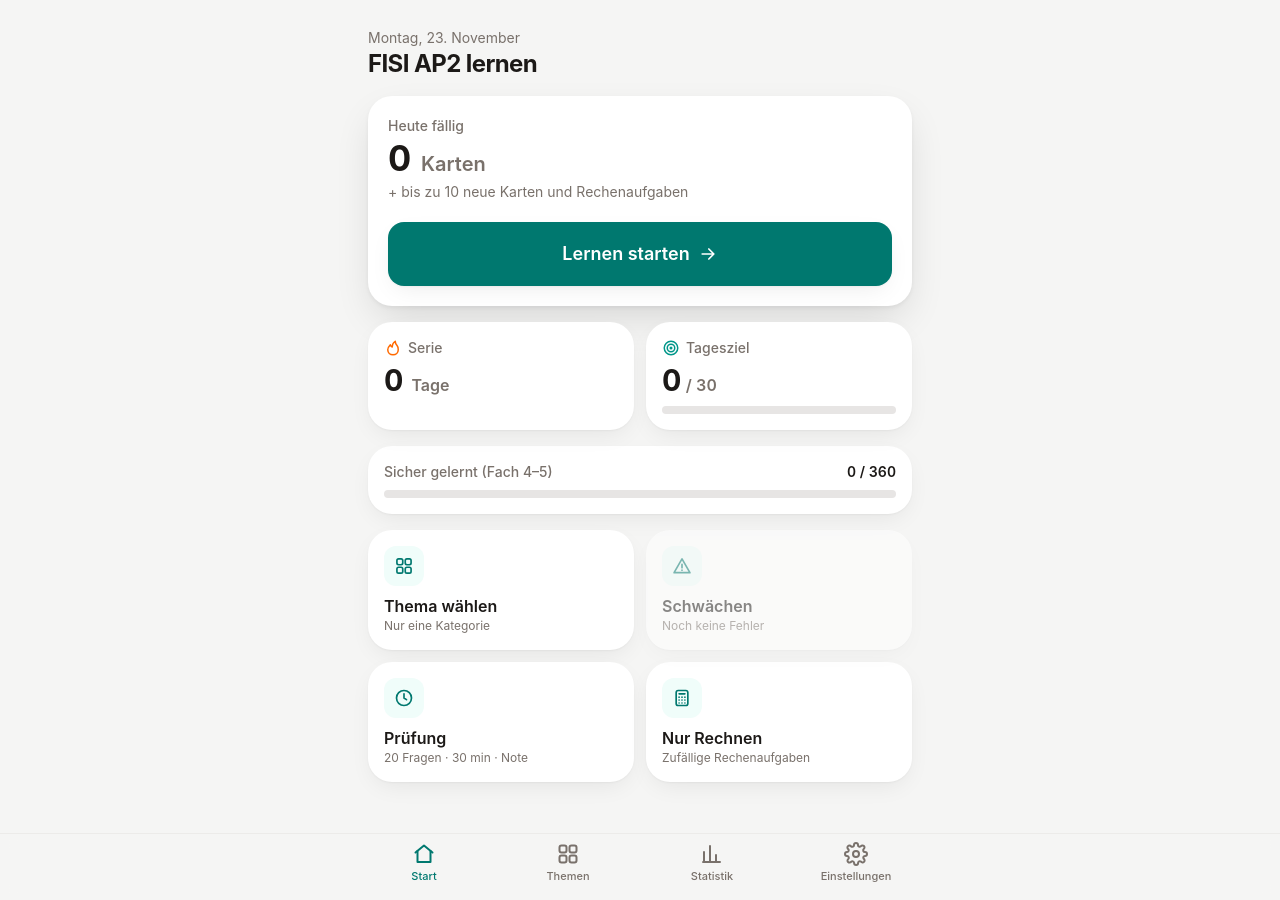
App › Prüfungssimulation endet mit Punkten und IHK-Note
Later steps or results of the test are not shown.
Click the button "Prüfung 20 Fragen · 30 min · Note" at (404, 698), box [368, 662, 634, 782]
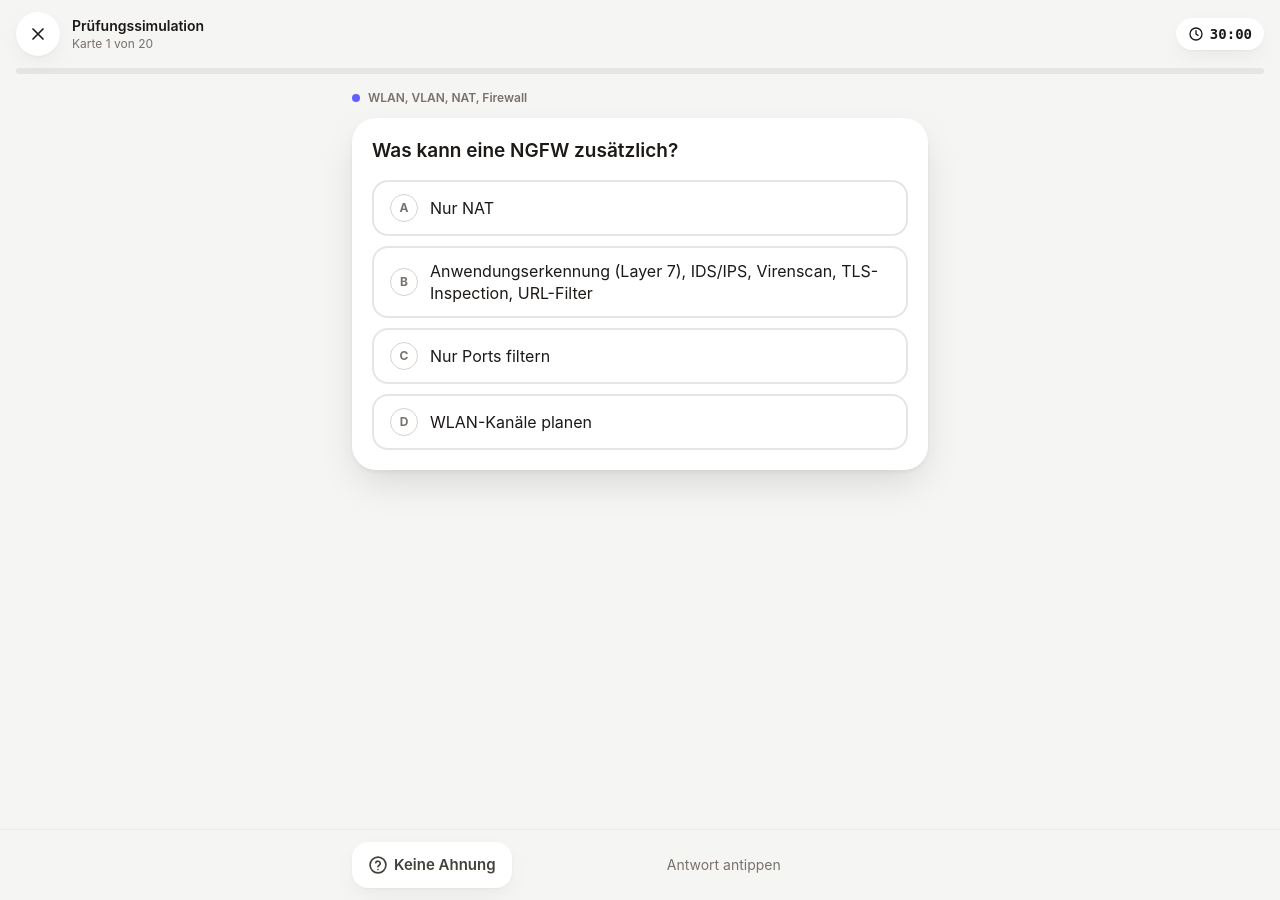
Now the element named "Restzeit" is shown, box [1176, 18, 1264, 50]
